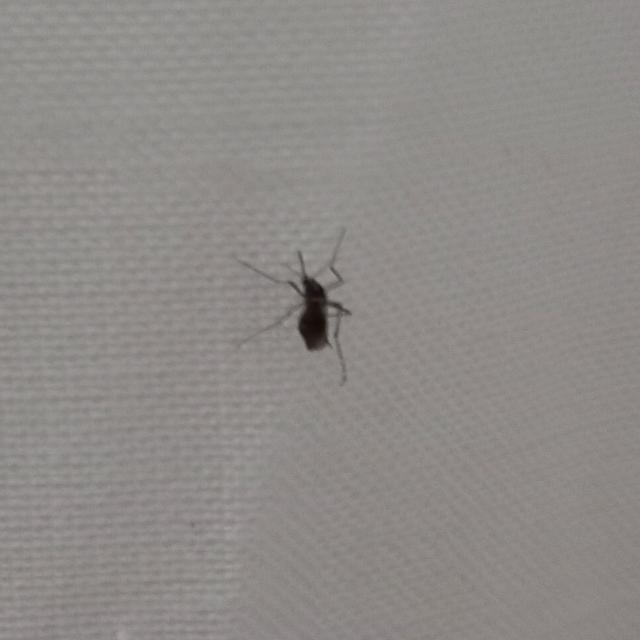albopictus: (222, 224, 365, 386)
